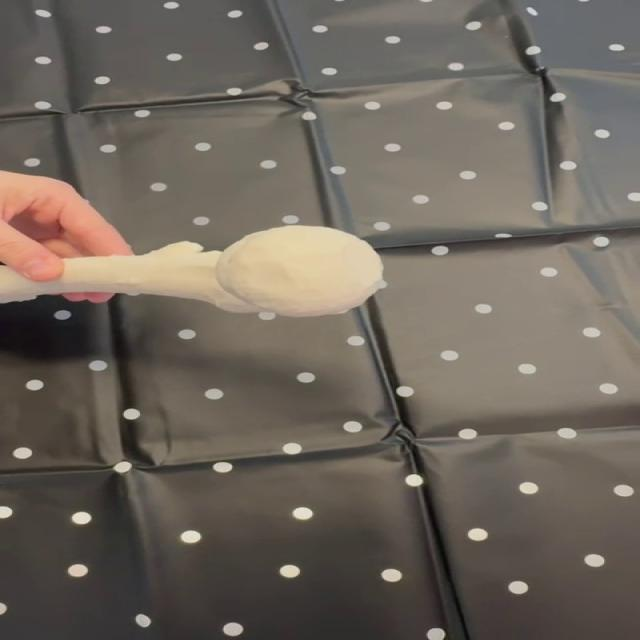bones: (0, 226, 383, 317)
